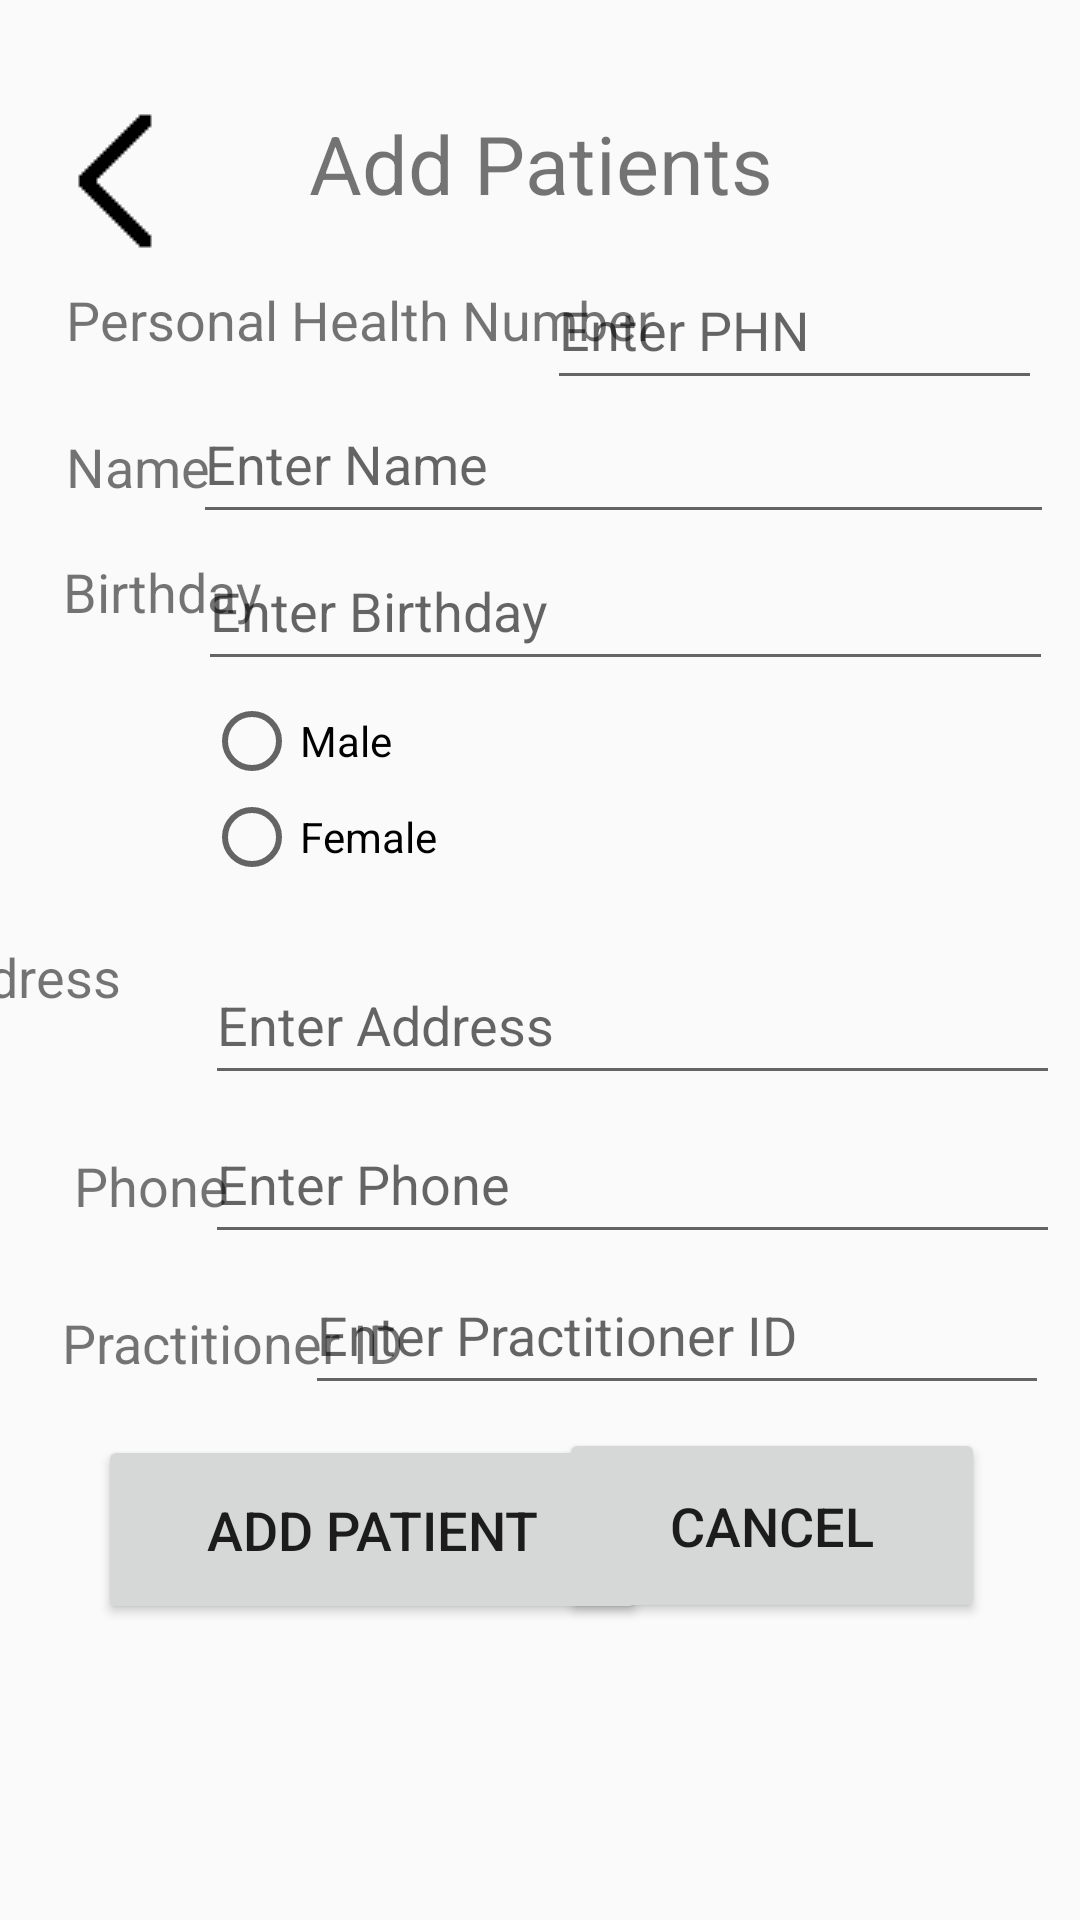

Icon bounding boxes for this 1080 × 1920 phone screenshot, format [left=x1, top=y1, right=x2, bottom=y2]:
Back: [left=78, top=114, right=152, bottom=248]
